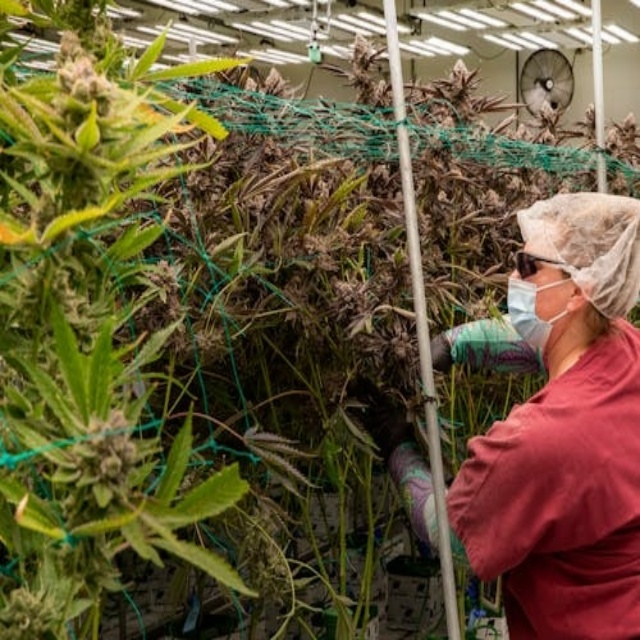Gafas: (514, 249, 571, 278)
Mascara: (506, 275, 563, 354)
